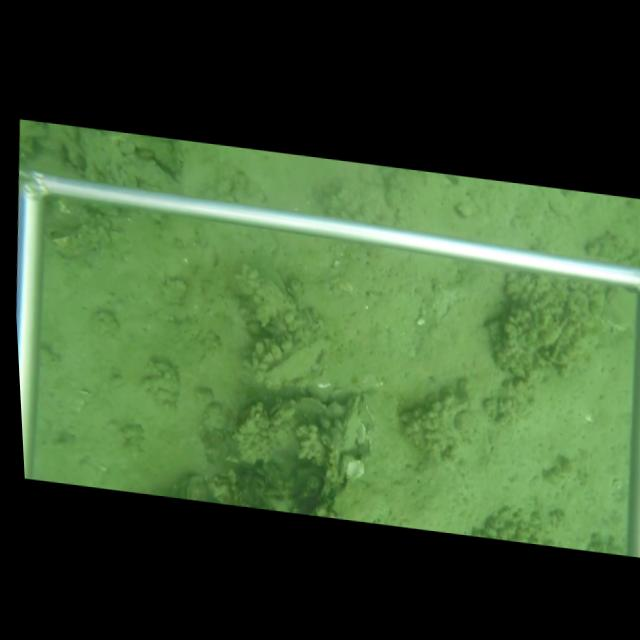Oyster-Closed: (252, 334, 332, 389), (338, 393, 362, 453)
Oyster-Open: (266, 400, 296, 429)
